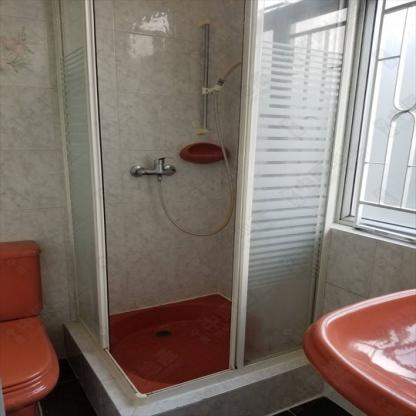Toilet: (0, 238, 61, 413)
Toilet Sink: (306, 286, 415, 414)
Water Cubicle: (57, 1, 357, 408)
